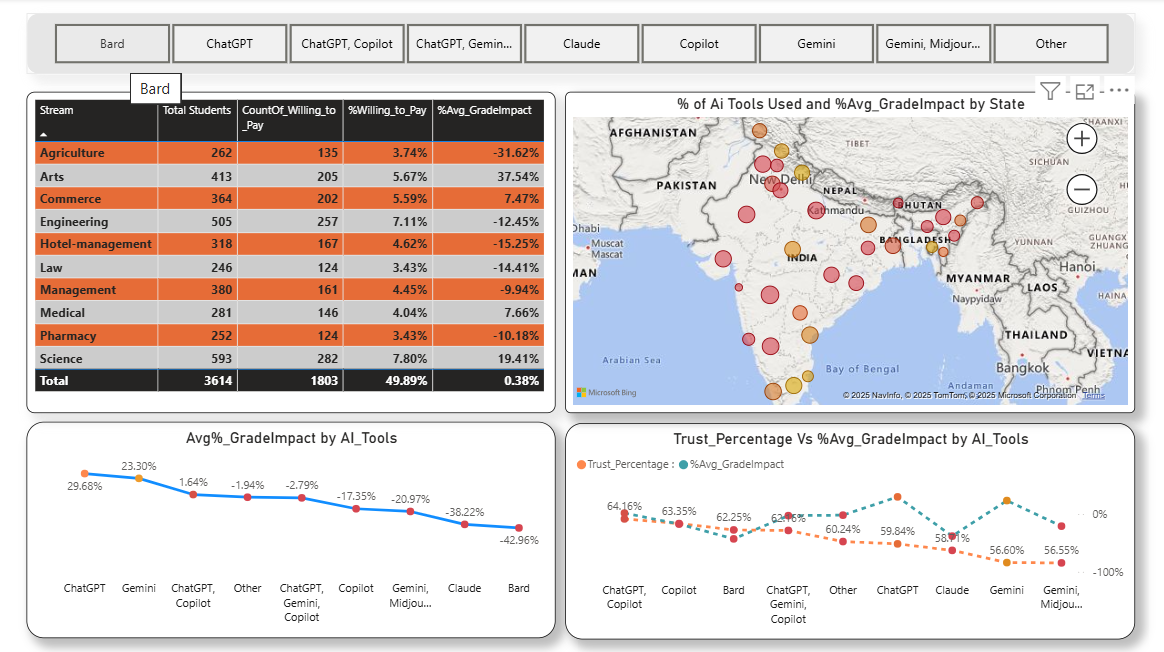

Layout of this report page (visuals, bound fields, positions):
{"tool":"powerbi","page":{"name":"GradeImpact","canvas":[1280,720],"ordinal":3},"visuals":[{"type":"lineChart","title":"Avg%_GradeImpact by AI_Tools","fields":{"Category":["Students.AI_Tools_Used"],"Y":["Measures (2).%Avg_GradeImpact"]},"box":[30.2,465.2,580.4,237.4],"z":0},{"type":"lineChart","title":"Trust_Percentage Vs %Avg_GradeImpact by AI_Tools","fields":{"Category":["Students.AI_Tools_Used"],"Y":["Measures (2).Trust_Score_Percentage_By_Tool"],"Y2":["Measures (2).%Avg_GradeImpact"]},"box":[621.6,466.6,625.7,237.4],"z":1000},{"type":"tableEx","fields":{"Values":["Students.Stream","Measures (2).Total Students","Measures (2).CountOf_Willing_to_Pay","Measures (2).%Willing_to_Pay","Measures (2).%Avg_GradeImpact"]},"box":[30.2,102.9,580.4,352.7],"z":2000},{"type":"map","fields":{"Category":["Students.State"],"Size":["Measures (2).% of Ai Tools Used"]},"box":[621.6,102.9,625.7,352.7],"z":3000},{"type":"slicer","fields":{"Values":["Students.AI_Tools_Used"]},"box":[30.2,16.5,1217.2,67.2],"z":4000}]}

Visuals, with their boxes in screenshot pixels (x1, y1, x2, y2), scaled from the page's 1280x720 canvas onto the 1164x652 screenshot:
"Avg%_GradeImpact by AI_Tools" lineChart: x1=27, y1=421, x2=555, y2=636
"Trust_Percentage Vs %Avg_GradeImpact by AI_Tools" lineChart: x1=565, y1=423, x2=1134, y2=638
tableEx - Students.Stream x Measures (2).Total Students: x1=27, y1=93, x2=555, y2=413
map - Students.State x Measures (2).% of Ai Tools Used: x1=565, y1=93, x2=1134, y2=413
slicer - Students.AI_Tools_Used: x1=27, y1=15, x2=1134, y2=76
